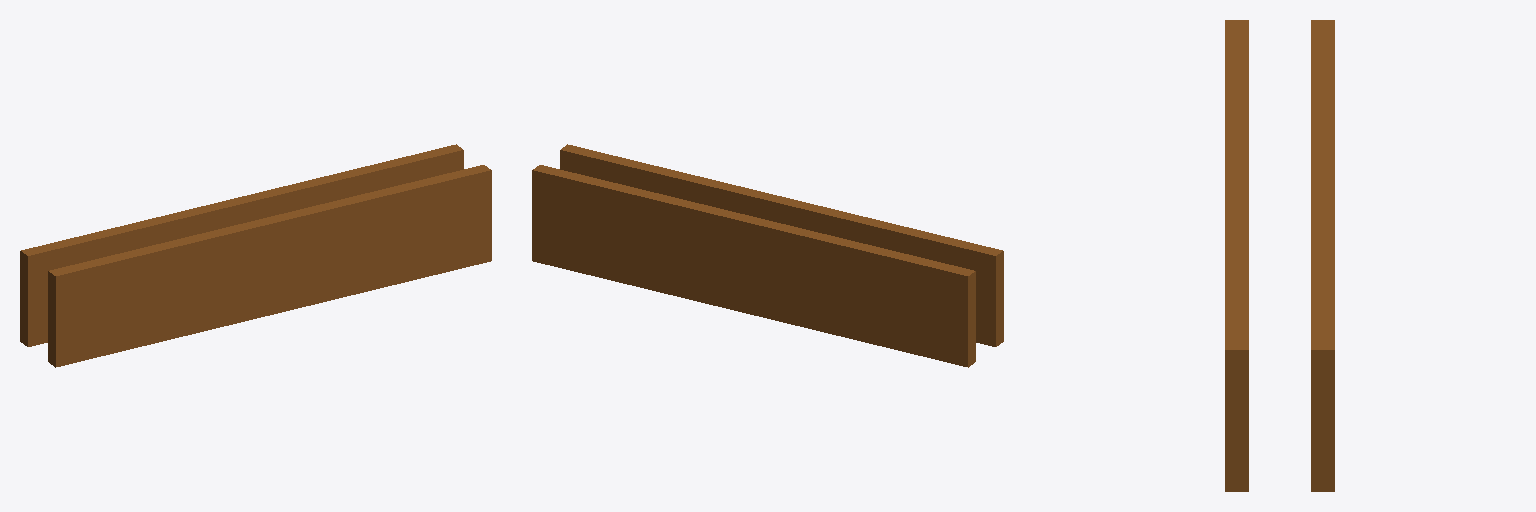
URDF robot description (solid_crevice_terrain_80cm):
<?xml version="1.0"?>
<robot name="solid_crevice_terrain_80cm">
  <link name="terrain_link">
    <inertial>
      <mass value="1000.0"/>
      <origin rpy="0 0 0" xyz="0 0 0"/>
      <inertia ixx="1000.0" ixy="0.0" ixz="0.0" iyy="1000.0" iyz="0.0" izz="1000.0"/>
    </inertial>
    <visual>
      <origin rpy="0 0 0" xyz="0 0 0"/>
      <geometry>
        <mesh filename="solid_crevice_80cm.stl" scale="1 1 1"/>
      </geometry>
      <material name="terrain_material">
        <color rgba="0.6 0.4 0.2 1.0"/>
      </material>
    </visual>
    <collision>
      <origin rpy="0 0 0" xyz="0 0 0"/>
      <geometry>
        <mesh filename="solid_crevice_80cm.stl" scale="1 1 1"/>
      </geometry>
    </collision>
  </link>
</robot>

--- What the picture shows (computed from the rendered views, not written in the file) ---
Views: 3 orthographic renders of the robot side by side, from view 1: azimuth 30°, elevation 25°; view 2: azimuth 150°, elevation 25°; view 3: azimuth 270°, elevation 25°.
Model solid_crevice_terrain_80cm with 1 links and 0 joints (none), rooted at terrain_link, posed all joints at 0.
Links seen in each view (by area): view 1: terrain_link; view 2: terrain_link; view 3: terrain_link.
Boxes of the visible links, x1,y1,x2,y2 form: terrain_link: (20,144,491,367); terrain_link: (532,144,1003,367); terrain_link: (1225,20,1334,491).
Bounding box of the posed robot: 10 × 1.4 × 2 m (x, y, z).
1 mesh visuals loaded from 1 distinct referenced files (1 binary STL).
